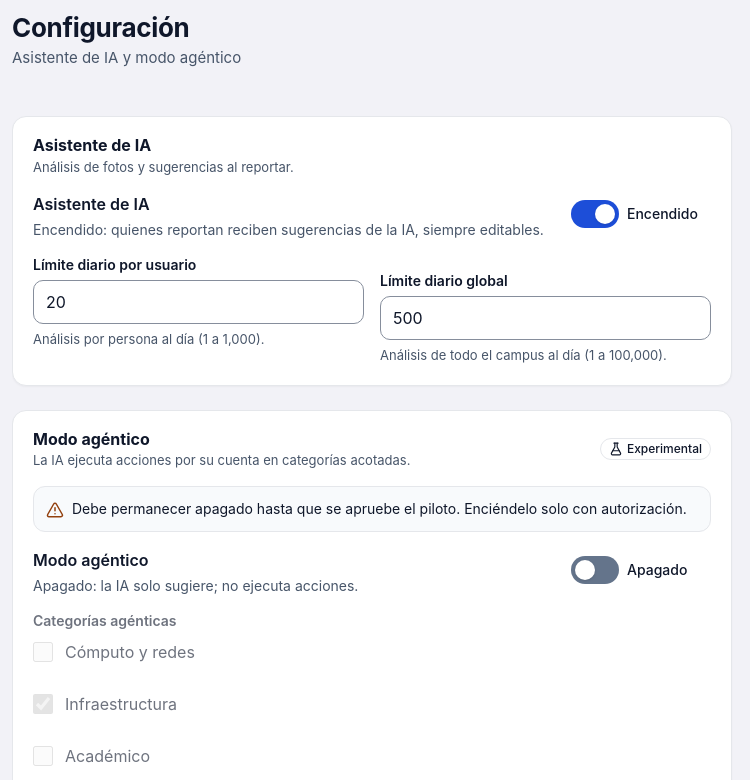
Test: AdminConfiguracion › valida al salir del campo y marca errores 400 de la API
Replace the text in the number field labelled "Límite diario por usuario" with "5000" at (198, 302), box x1=33 y1=280 x2=364 y2=324
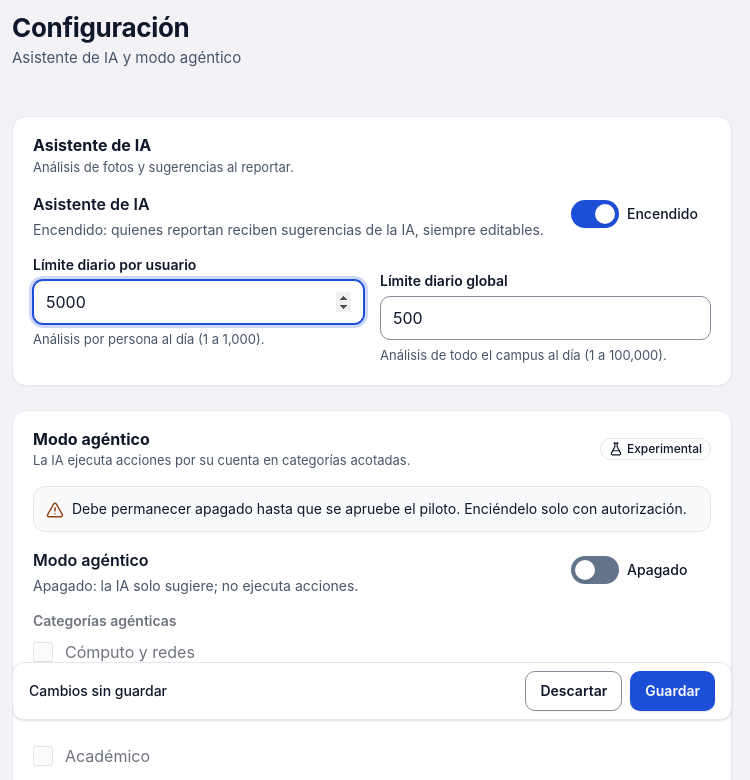
Press Tab
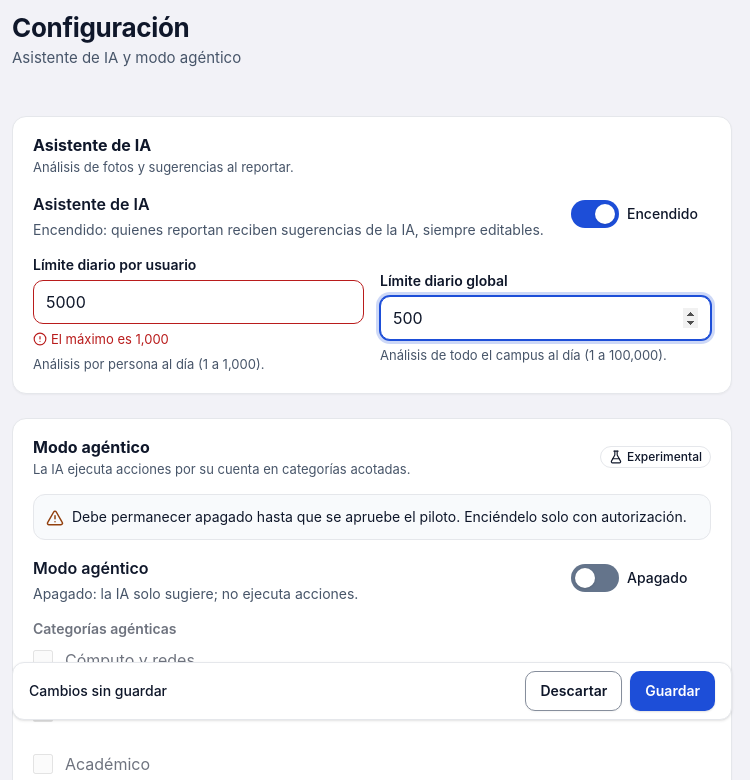
Expected: the text "El máximo es 1,000" is shown, x1=33 y1=331 x2=169 y2=347
Click the button "Guardar" at (673, 691), box x1=630 y1=671 x2=715 y2=711
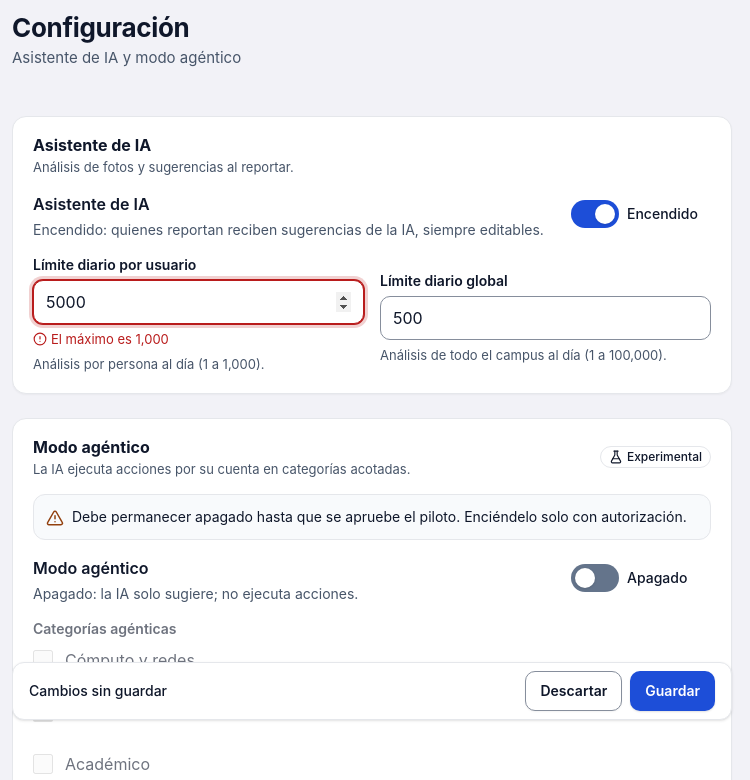
Replace the text in the number field labelled "Límite diario por usuario" with "30" at (198, 302), box x1=33 y1=280 x2=364 y2=324
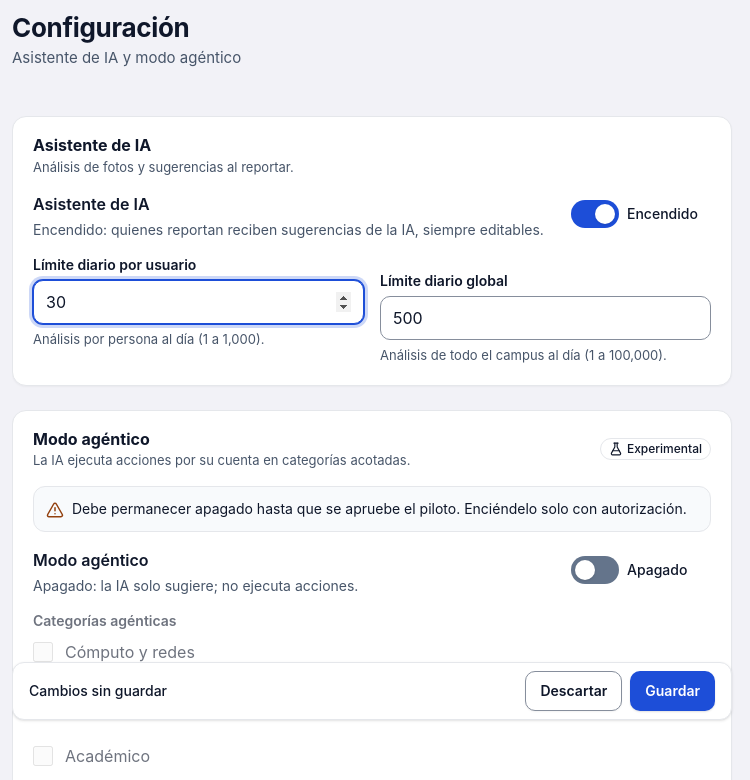
Click the button "Guardar" at (673, 691), box x1=630 y1=671 x2=715 y2=711
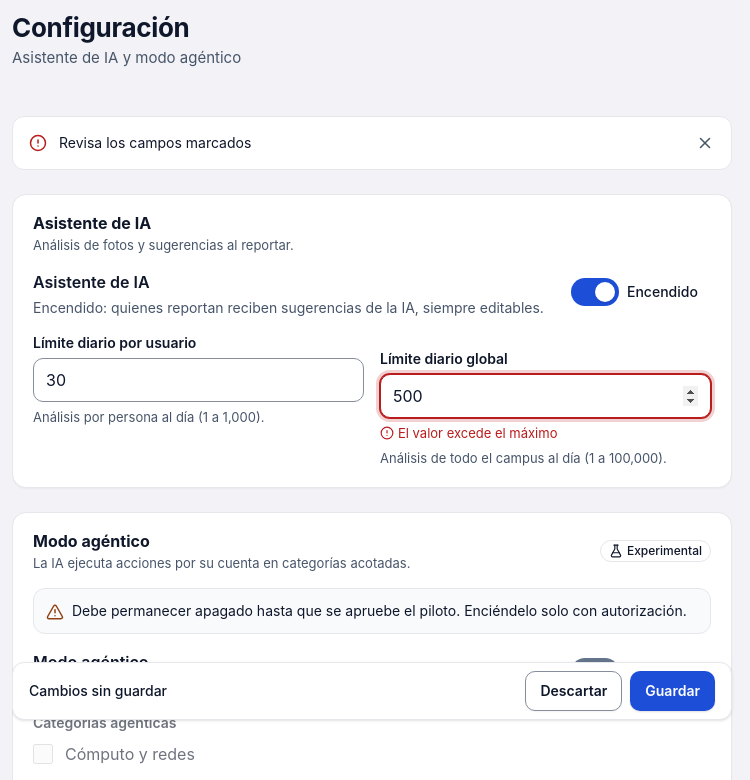
Expected: the text "El valor excede el máximo" is shown, x1=380 y1=425 x2=558 y2=441
